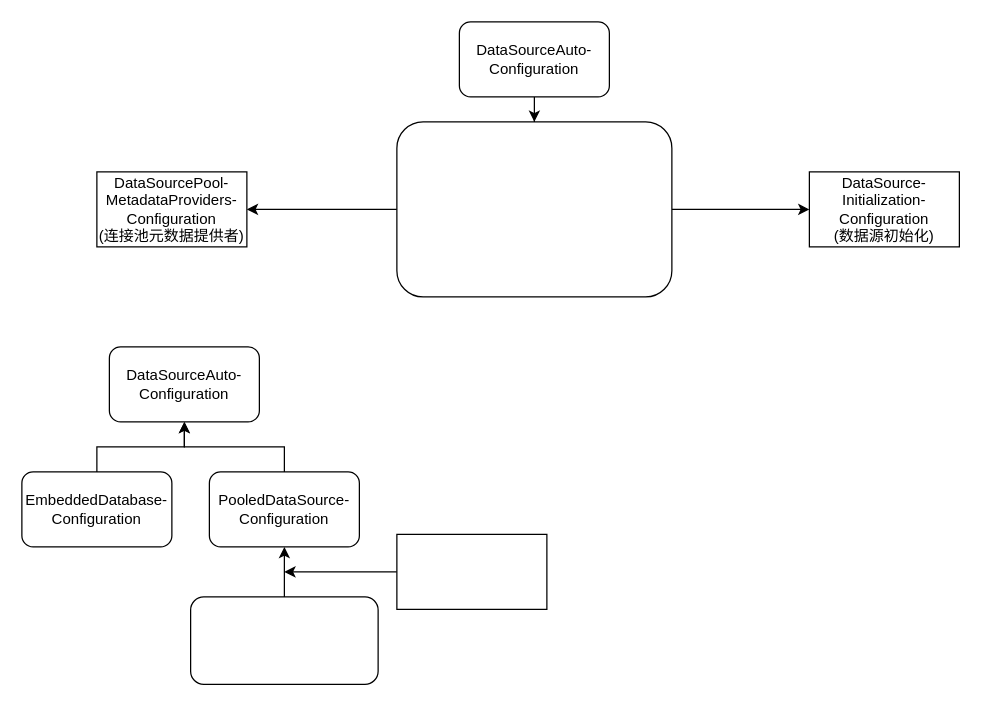
Some shapes in this 981 by 706 pixel diagram are drawn without their labels. Here are the shapes that lost their labels. From the top down, the box of each, then its label:
(396, 121, 672, 297): instanceof 判断一下 DataSource/ EmbeddedDatabaseType
(396, 533, 547, 609): DataSourceJmx- Configuration
(189, 596, 378, 684): DataSourceConfiguration
